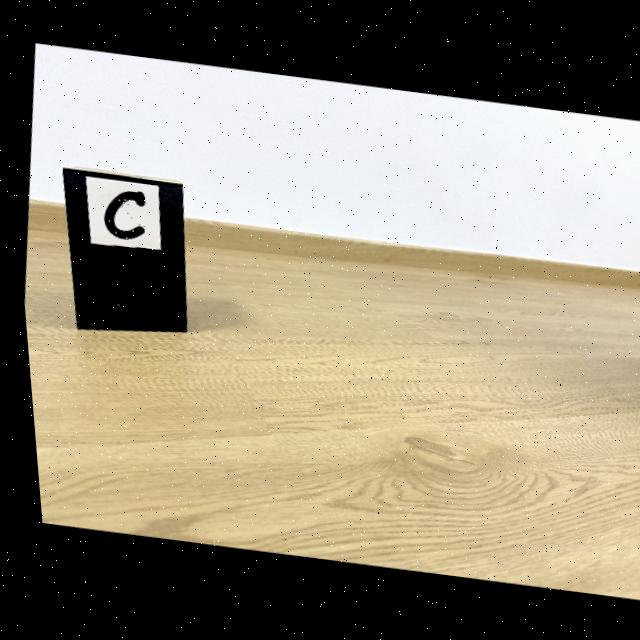C: (100, 190, 141, 239)
